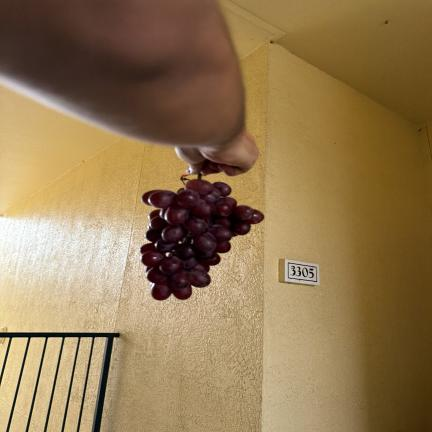grape_cluster: (140, 178, 264, 300)
